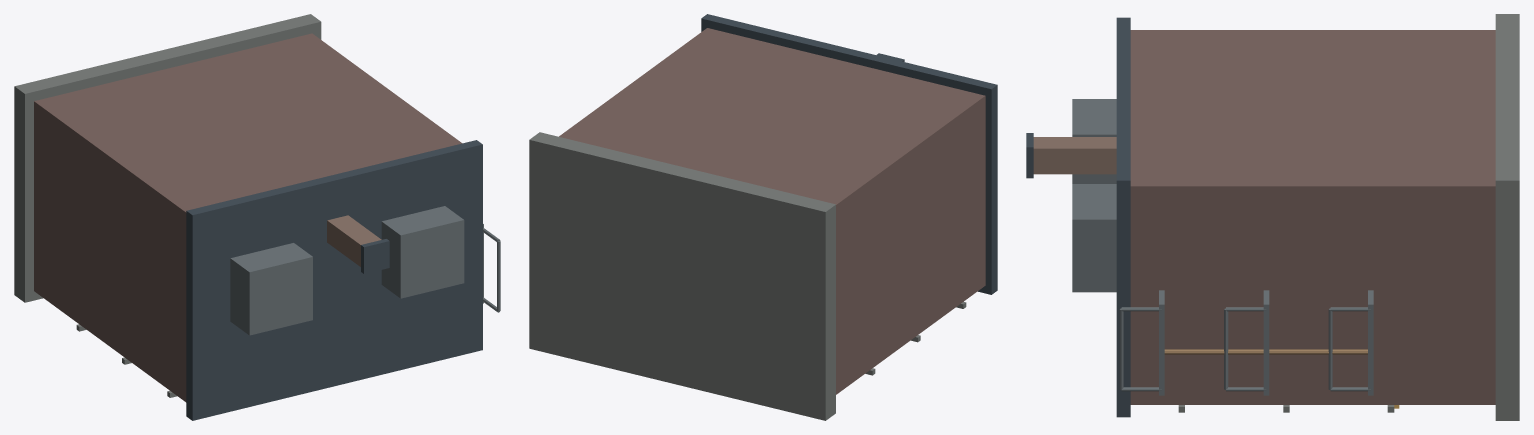
The model's file is powerquest_apartments.glb.
The picture shows the model from 3 angles, left to right: view 1: azimuth 30°, elevation 25°; view 2: azimuth 150°, elevation 25°; view 3: azimuth 270°, elevation 25°; orthographic projection. The views are drawn at different scales.
Parts seen in each view (by area): view 1: ApartmentMass1, RoofSlab2, ReinforcedPlinth0, RoofHVAC86, RoofHVAC88, Chimney90, ChimneyCap91; view 2: ApartmentMass1, ReinforcedPlinth0, RoofSlab2; view 3: ApartmentMass1, ReinforcedPlinth0, RoofSlab2, RoofHVAC88, Chimney90, RoofHVAC86, FireEscapeLanding72, FireEscapeLanding68, FireEscapeLanding76, EscapeLadder81, EscapeLadder80.
Part boxes in pixels (<box>): ApartmentMass1: <box>34,33,462,402</box>; RoofSlab2: <box>186,140,482,420</box>; ReinforcedPlinth0: <box>14,14,321,302</box>; RoofHVAC86: <box>230,243,312,335</box>; RoofHVAC88: <box>381,206,464,298</box>; Chimney90: <box>327,215,381,266</box>; ChimneyCap91: <box>361,239,389,273</box>; ApartmentMass1: <box>559,28,985,394</box>; ReinforcedPlinth0: <box>529,132,835,420</box>; RoofSlab2: <box>701,14,997,294</box>; ApartmentMass1: <box>1130,30,1495,404</box>; ReinforcedPlinth0: <box>1495,14,1519,420</box>; RoofSlab2: <box>1116,17,1130,417</box>; RoofHVAC88: <box>1072,184,1116,292</box>; Chimney90: <box>1033,137,1116,174</box>; RoofHVAC86: <box>1072,99,1116,183</box>; FireEscapeLanding72: <box>1263,290,1269,395</box>; FireEscapeLanding68: <box>1368,290,1373,395</box>; FireEscapeLanding76: <box>1159,290,1164,395</box>; EscapeLadder81: <box>1164,349,1263,354</box>; EscapeLadder80: <box>1269,349,1367,354</box>.
Size of the model in its own units: 10.36 by 7.73 by 12.27.
